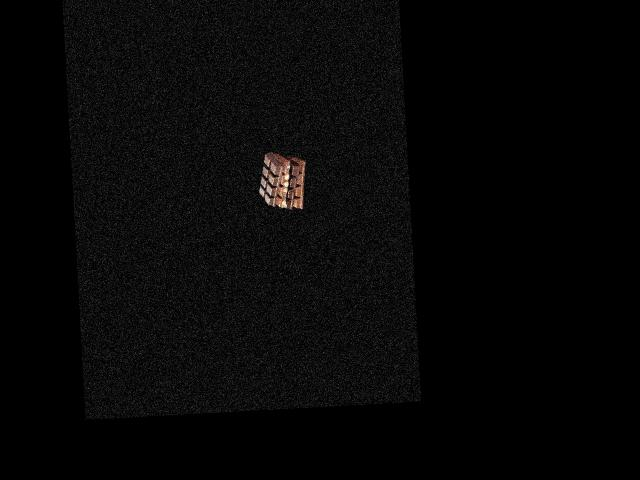chocolate: (257, 154, 310, 210)
